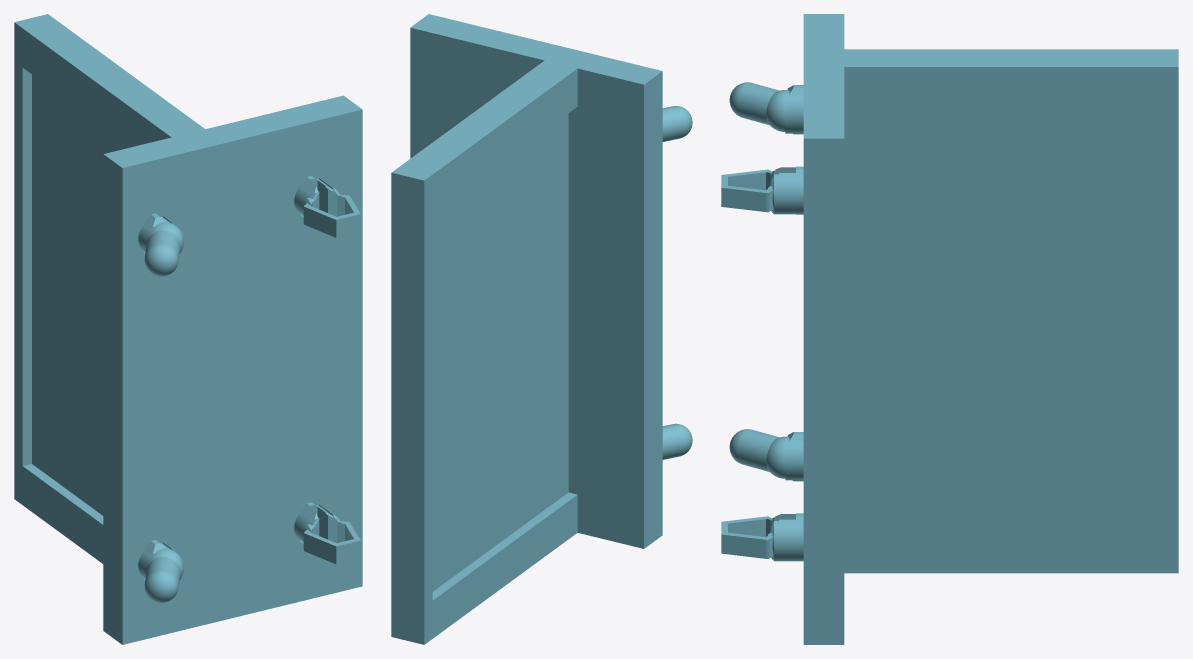
File: part-swd01__current-mounts-v1__fit-pf02c9-hoop5__print.glb
3 renders of one model, left to right at view 1: azimuth 30°, elevation 25°; view 2: azimuth 150°, elevation 25°; view 3: azimuth 270°, elevation 25°, orthographic. The views are drawn at different scales.
Visible parts, largest first — view 1: print.stl; view 2: print.stl; view 3: print.stl.
Part boxes in pixels (bbox=[...]): print.stl: bbox=[14, 14, 362, 644]; print.stl: bbox=[391, 14, 692, 644]; print.stl: bbox=[721, 14, 1178, 644].
Size of the model in its own units: 0.0394 by 0.0742 by 0.0607.
